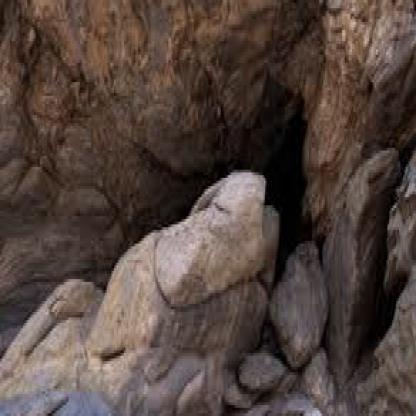Metamorphic_Quartize: (81, 148, 286, 413), (269, 203, 336, 364)
